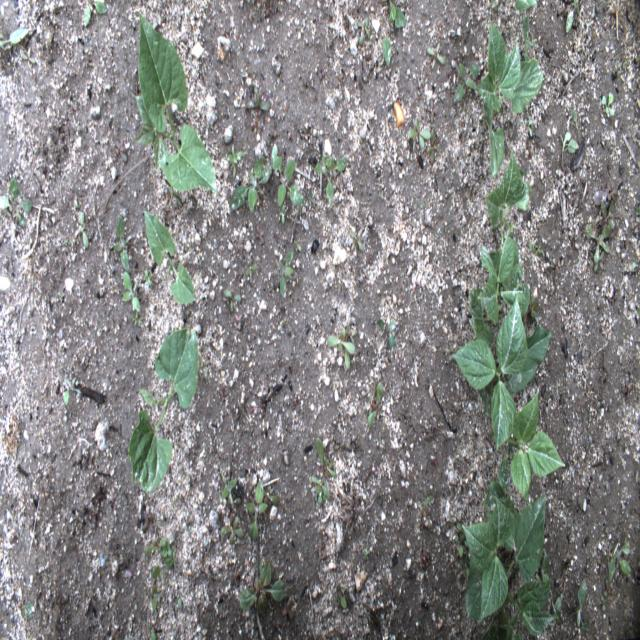crop: (450, 296, 552, 451), (134, 12, 216, 191), (462, 479, 554, 638), (130, 328, 198, 490), (474, 19, 544, 176), (496, 389, 566, 498), (470, 226, 530, 346), (144, 212, 195, 306), (485, 153, 530, 246), (524, 298, 540, 321)
weed: (238, 558, 286, 615), (228, 155, 272, 213), (270, 144, 304, 207), (0, 176, 33, 226), (381, 0, 406, 66), (313, 156, 347, 204), (243, 481, 268, 541), (326, 324, 354, 369), (585, 224, 612, 263), (576, 576, 594, 634), (454, 63, 481, 101), (608, 539, 631, 580), (157, 495, 180, 531), (114, 215, 129, 270), (560, 132, 581, 168), (522, 15, 538, 61), (280, 245, 294, 297), (246, 87, 270, 117), (375, 317, 398, 348), (366, 382, 382, 426), (122, 272, 140, 311), (408, 117, 431, 146), (84, 0, 107, 27), (0, 28, 28, 50), (226, 144, 244, 177), (144, 537, 172, 558), (151, 556, 176, 579), (220, 518, 243, 543), (455, 521, 469, 559), (426, 128, 440, 166), (312, 474, 329, 505), (64, 377, 82, 406), (427, 41, 444, 70), (223, 290, 242, 314), (566, 1, 580, 33), (600, 198, 614, 230), (348, 226, 365, 252), (357, 15, 371, 44), (21, 47, 37, 71), (314, 439, 324, 477), (262, 486, 279, 507), (220, 478, 236, 500), (601, 91, 615, 116), (79, 211, 88, 248), (324, 457, 338, 480), (336, 583, 347, 610), (246, 254, 258, 278), (114, 140, 127, 162), (552, 596, 562, 622), (229, 493, 242, 511), (607, 181, 618, 201), (130, 308, 142, 326), (515, 1, 537, 10), (594, 252, 605, 270), (24, 600, 34, 618), (151, 585, 157, 613), (530, 244, 544, 256), (524, 118, 532, 138), (572, 107, 578, 129), (144, 269, 152, 284), (617, 59, 628, 69), (424, 495, 433, 507), (148, 627, 155, 639), (176, 597, 182, 607)
